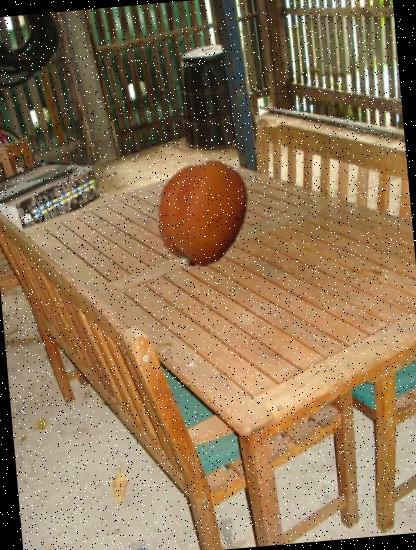Apricot: (145, 156, 260, 270)
